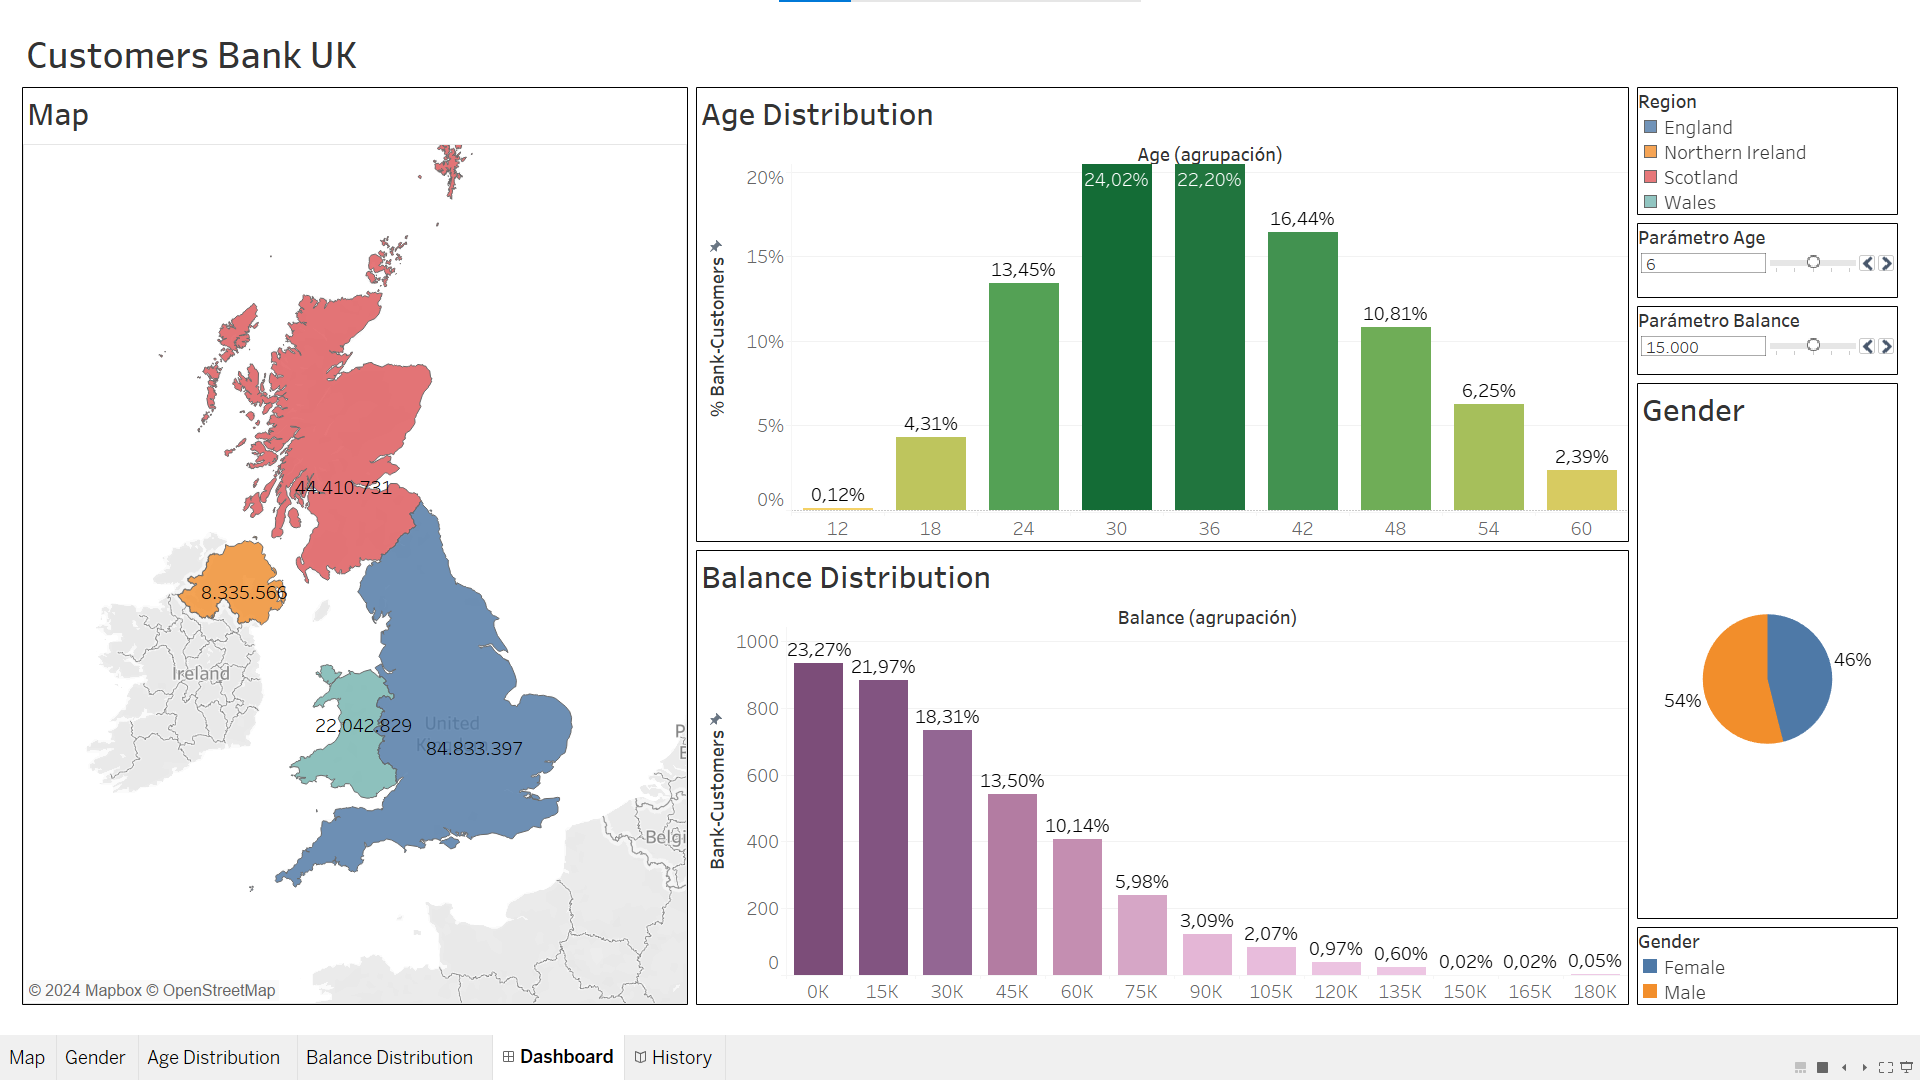

The page's visual inventory and layout, read from the dashboard file:
{"tool":"tableau","page":{"name":"Dashboard","canvas":[1900,1000],"ordinal":0},"visuals":[{"type":"title","box":[8,8,1884,58]},{"type":"worksheet","title":"Map","mark":"Multipolygon","box":[8,66,674,926]},{"type":"worksheet","title":"Age Distribution","mark":"Bar","rows":["P1-UK-Bank-Customers_41B2381C47EF429DB24289B84958AE7C"],"cols":["Age (agrupación)"],"box":[682,66,941,463]},{"type":"legend","title":"Map","param":"[federated.13cygw30azm8sf113tp67080slr9].[none:Region:nk]","box":[1623,66,269,136]},{"type":"parameter","param":"[Parameters].[Parámetro 2]","box":[1623,202,269,83]},{"type":"parameter","param":"[Parameters].[Parámetro 1]","box":[1623,285,269,77]},{"type":"worksheet","title":"Gender","mark":"Pie","box":[1623,362,269,544]},{"type":"worksheet","title":"Balance Distribution","mark":"Bar","rows":["P1-UK-Bank-Customers_41B2381C47EF429DB24289B84958AE7C"],"cols":["Balance (agrupación)"],"box":[682,529,941,463]},{"type":"legend","title":"Gender","param":"[federated.13cygw30azm8sf113tp67080slr9].[none:Gender:nk]","box":[1623,906,269,86]}]}

Visuals, with their boxes in screenshot pixels (x1, y1, x2, y2):
title: 18, 23, 1895, 81
"Map" worksheet (Multipolygon marks): 18, 81, 690, 1004
"Age Distribution" worksheet (Bar marks): 690, 81, 1627, 542
"Map" legend: 1627, 81, 1895, 216
parameter: 1627, 216, 1895, 299
parameter: 1627, 299, 1895, 376
"Gender" worksheet (Pie marks): 1627, 376, 1895, 918
"Balance Distribution" worksheet (Bar marks): 690, 542, 1627, 1004
"Gender" legend: 1627, 918, 1895, 1004
